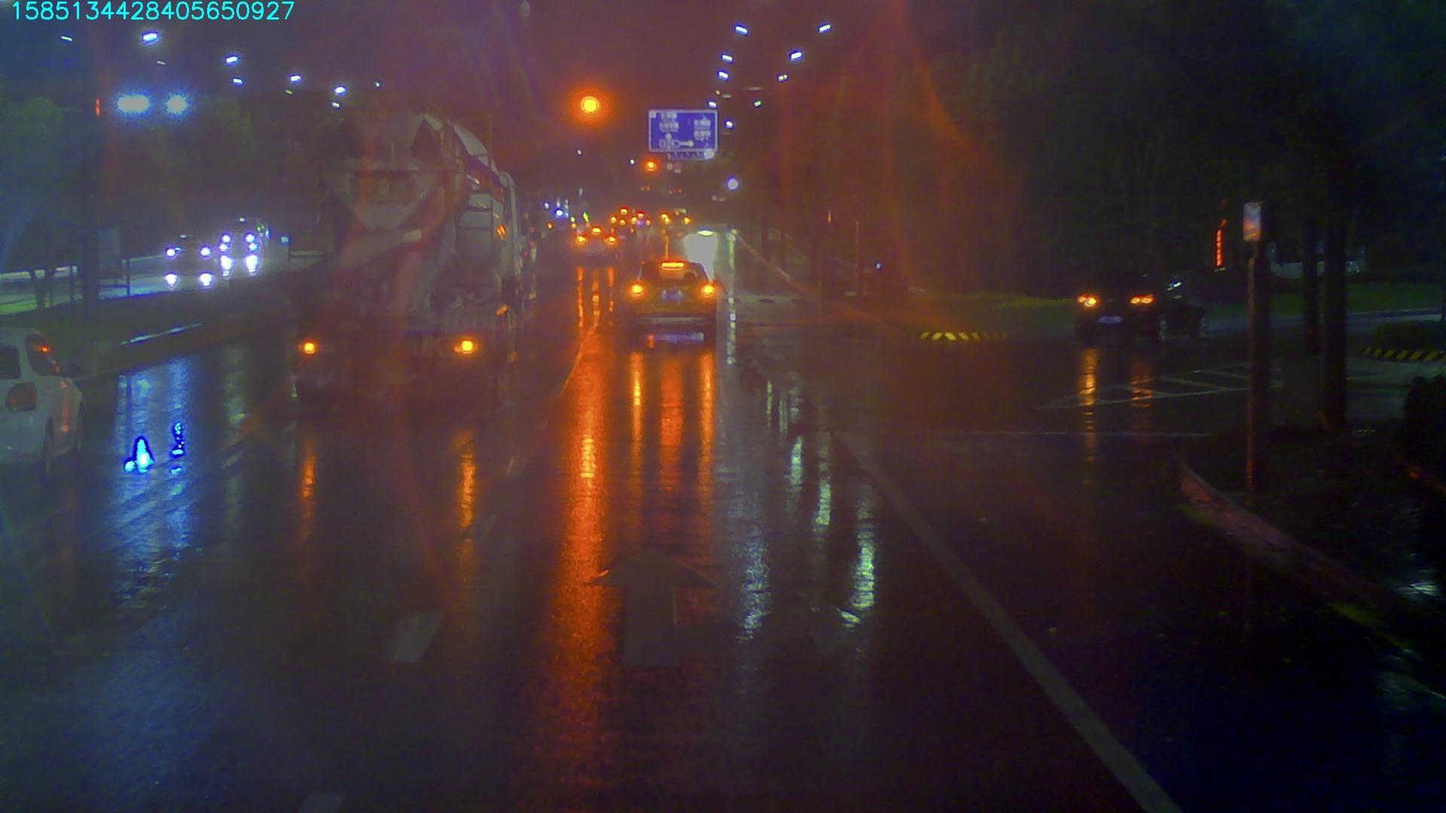red: (578, 82, 600, 118)
